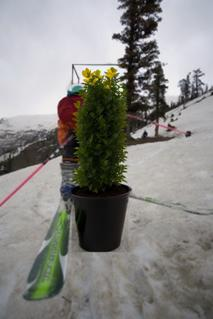person: (59, 73, 131, 195)
pottedplant: (72, 64, 127, 251)
